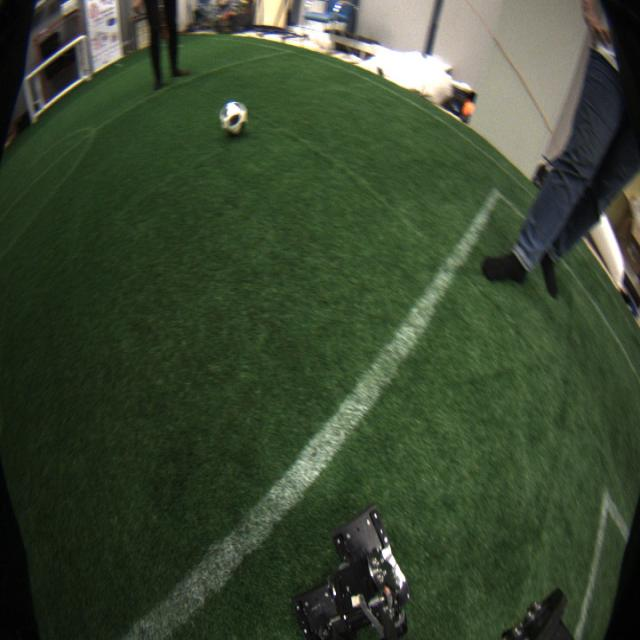ball: (220, 102, 248, 136)
goalpost: (23, 77, 37, 124), (83, 34, 93, 80)
